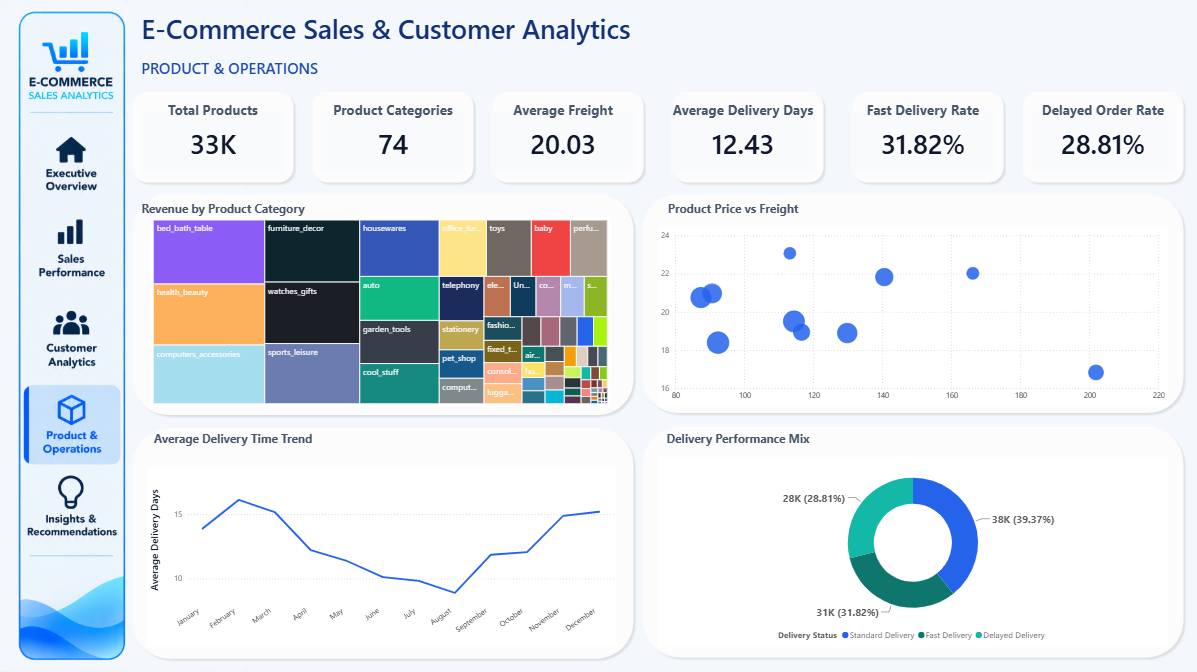

What the dashboard file says about the page in this screenshot:
{"tool":"powerbi","page":{"name":"Product & Operations","canvas":[1920,1080],"ordinal":3},"visuals":[{"type":"shape","box":[0,-8,208,1088],"z":1000},{"type":"image","box":[0,8,400,1072],"z":1500},{"type":"shape","box":[208,144,272,160],"z":2000},{"type":"shape","box":[1632,144,272,160],"z":4000},{"type":"shape","box":[496,144,272,160],"z":5000},{"type":"shape","box":[784,144,256,160],"z":6000},{"type":"shape","box":[1360,144,256,160],"z":7000},{"type":"shape","box":[1072,144,256,160],"z":8000},{"type":"cardVisual","fields":{"Data":["Sales Analytics.Average Freight"]},"box":[784,176,240,112],"z":9000},{"type":"cardVisual","fields":{"Data":["Table.Product Categories"]},"box":[512,176,240,112],"z":10000},{"type":"cardVisual","fields":{"Data":["Table.Fast Delivery Rate"]},"box":[1360,176,240,112],"z":11000},{"type":"cardVisual","fields":{"Data":["Sales Analytics.Average Delivery Days"]},"box":[1072,176,240,112],"z":12000},{"type":"cardVisual","fields":{"Data":["Table.Delayed Order Rate"]},"box":[1648,176,240,112],"z":13000},{"type":"cardVisual","fields":{"Data":["Table.Total Products"]},"box":[224,176,240,112],"z":14000},{"type":"textbox","box":[496,160,272,48],"z":15000},{"type":"textbox","box":[768,160,272,48],"z":16000},{"type":"textbox","box":[1056,160,272,48],"z":17000},{"type":"textbox","box":[1344,160,272,48],"z":18000},{"type":"textbox","box":[1632,160,272,48],"z":19000},{"type":"shape","box":[208,307,816,368],"z":20000},{"type":"treemap","fields":{"Details":["Sales Analytics.product_category"],"Values":["Sales Analytics.Total Revenue"]},"box":[244,352,736,304],"z":21000},{"type":"shape","box":[207,682,816,384],"z":22000},{"type":"shape","box":[1024,307,880,365],"z":23000},{"type":"shape","box":[1024,679,880,384],"z":24000},{"type":"textbox","box":[224,320,272,48],"z":25000},{"type":"textbox","box":[992,320,368,48],"z":26000},{"type":"textbox","box":[240,688,272,48],"z":27000},{"type":"textbox","box":[1008,688,352,48],"z":28000},{"type":"scatterChart","fields":{"Category":["Sales Analytics.product_category"],"X":["Sales Analytics.Average Price"],"Y":["Sales Analytics.Average Freight"],"Size":["Table.Total Products"]},"box":[1056,368,816,288],"z":29000},{"type":"lineChart","fields":{"Y":["Sales Analytics.Average Delivery Days"],"Category":["Sales Analytics.purchase_date.Variation.Date Hierarchy.Month"]},"box":[238,752,752,288],"z":30000},{"type":"textbox","box":[208,160,272,48],"z":31000},{"type":"donutChart","fields":{"Category":["Delivery Status.Delivery Status"],"Y":["Delivery Status.Delivery Performance Count"]},"box":[1056,736,816,304],"z":32000},{"type":"textbox","box":[224,16,848,80],"z":33000},{"type":"textbox","box":[224,91,704,64],"z":34000}]}

Visuals, with their boxes on the page's 1920x1080 design canvas (x1, y1, x2, y2). These are canvas units, not pixel positions in the 1197x672 screenshot, which may show the page scaled, cropped or inside an application window:
shape: bbox=[0, -8, 208, 1080]
image: bbox=[0, 8, 400, 1080]
shape: bbox=[208, 144, 480, 304]
shape: bbox=[1632, 144, 1904, 304]
shape: bbox=[496, 144, 768, 304]
shape: bbox=[784, 144, 1040, 304]
shape: bbox=[1360, 144, 1616, 304]
shape: bbox=[1072, 144, 1328, 304]
cardVisual - Sales Analytics.Average Freight: bbox=[784, 176, 1024, 288]
cardVisual - Table.Product Categories: bbox=[512, 176, 752, 288]
cardVisual - Table.Fast Delivery Rate: bbox=[1360, 176, 1600, 288]
cardVisual - Sales Analytics.Average Delivery Days: bbox=[1072, 176, 1312, 288]
cardVisual - Table.Delayed Order Rate: bbox=[1648, 176, 1888, 288]
cardVisual - Table.Total Products: bbox=[224, 176, 464, 288]
textbox: bbox=[496, 160, 768, 208]
textbox: bbox=[768, 160, 1040, 208]
textbox: bbox=[1056, 160, 1328, 208]
textbox: bbox=[1344, 160, 1616, 208]
textbox: bbox=[1632, 160, 1904, 208]
shape: bbox=[208, 307, 1024, 675]
treemap - Sales Analytics.product_category x Sales Analytics.Total Revenue: bbox=[244, 352, 980, 656]
shape: bbox=[207, 682, 1023, 1066]
shape: bbox=[1024, 307, 1904, 672]
shape: bbox=[1024, 679, 1904, 1063]
textbox: bbox=[224, 320, 496, 368]
textbox: bbox=[992, 320, 1360, 368]
textbox: bbox=[240, 688, 512, 736]
textbox: bbox=[1008, 688, 1360, 736]
scatterChart - Sales Analytics.product_category x Sales Analytics.Average Price: bbox=[1056, 368, 1872, 656]
lineChart - Sales Analytics.Average Delivery Days x Sales Analytics.purchase_date.Variation.Date Hierarchy.Month: bbox=[238, 752, 990, 1040]
textbox: bbox=[208, 160, 480, 208]
donutChart - Delivery Status.Delivery Status x Delivery Status.Delivery Performance Count: bbox=[1056, 736, 1872, 1040]
textbox: bbox=[224, 16, 1072, 96]
textbox: bbox=[224, 91, 928, 155]
